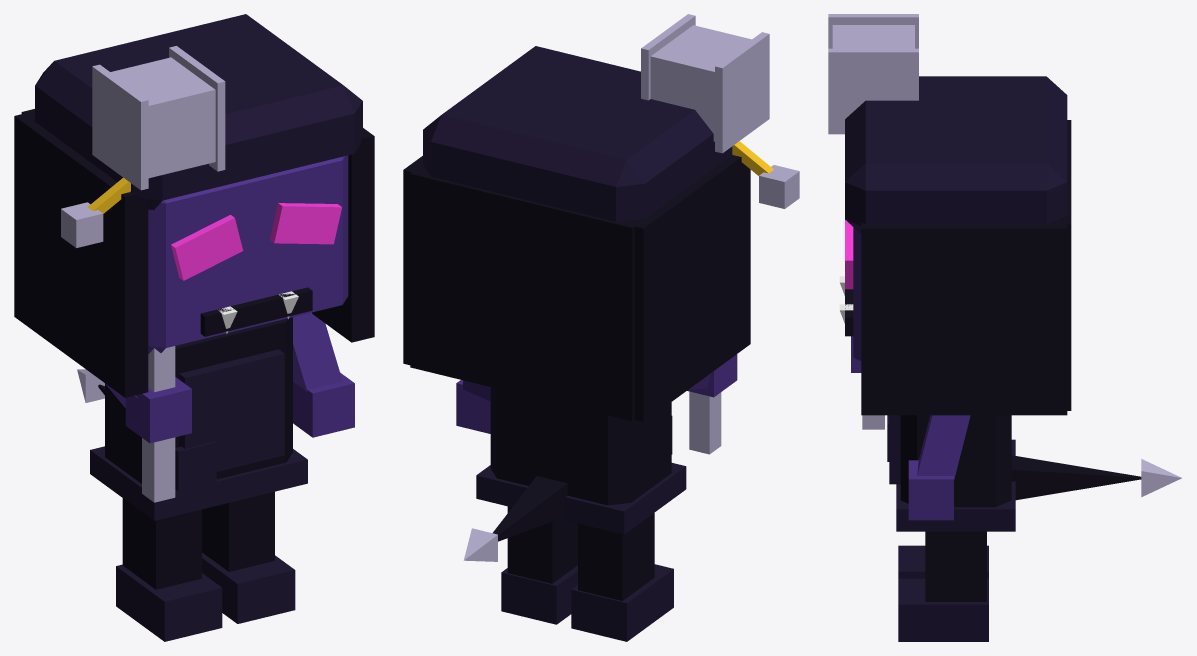
The model's file is weakener_r16.glb.
3 views of the same model, side by side, from view 1: azimuth 30°, elevation 25°; view 2: azimuth 150°, elevation 25°; view 3: azimuth 270°, elevation 25° (orthographic). The views are drawn at different scales.
Visible parts, largest first — view 1: weakener_r16_mesh; view 2: weakener_r16_mesh; view 3: weakener_r16_mesh.
Part boxes in pixels (x1,y1,x2,y2): weakener_r16_mesh: [14, 14, 374, 641]; weakener_r16_mesh: [403, 14, 799, 641]; weakener_r16_mesh: [828, 14, 1181, 641].
Size of the model in its own units: 0.8772 by 1.6 by 0.949.
1 material, 1 textured.
